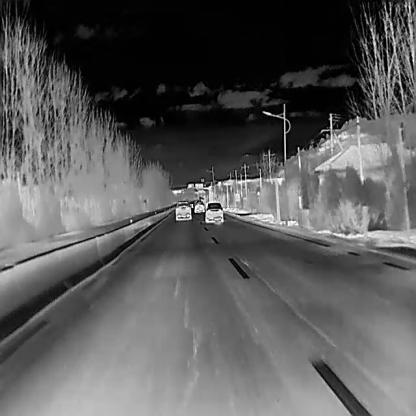car: (205, 202, 224, 224), (174, 200, 192, 220), (194, 201, 205, 213)
